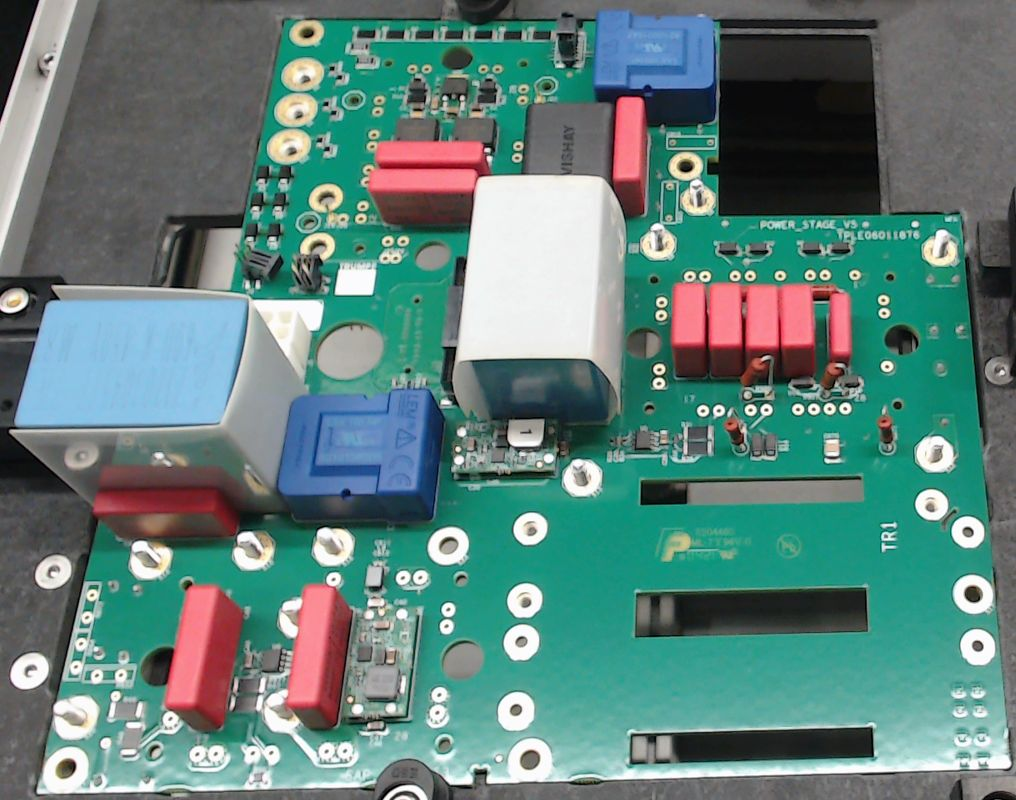comp1: (278, 387, 446, 524), (592, 10, 719, 123)
comp2: (163, 584, 245, 732), (286, 583, 351, 731), (91, 489, 241, 537), (370, 166, 477, 228), (610, 97, 646, 218), (777, 282, 815, 381), (743, 280, 779, 382), (672, 282, 709, 378), (709, 281, 744, 381), (372, 140, 485, 170), (828, 291, 854, 367)
comp3: (525, 102, 615, 177)
comp4: (12, 285, 305, 508), (453, 175, 624, 429)
